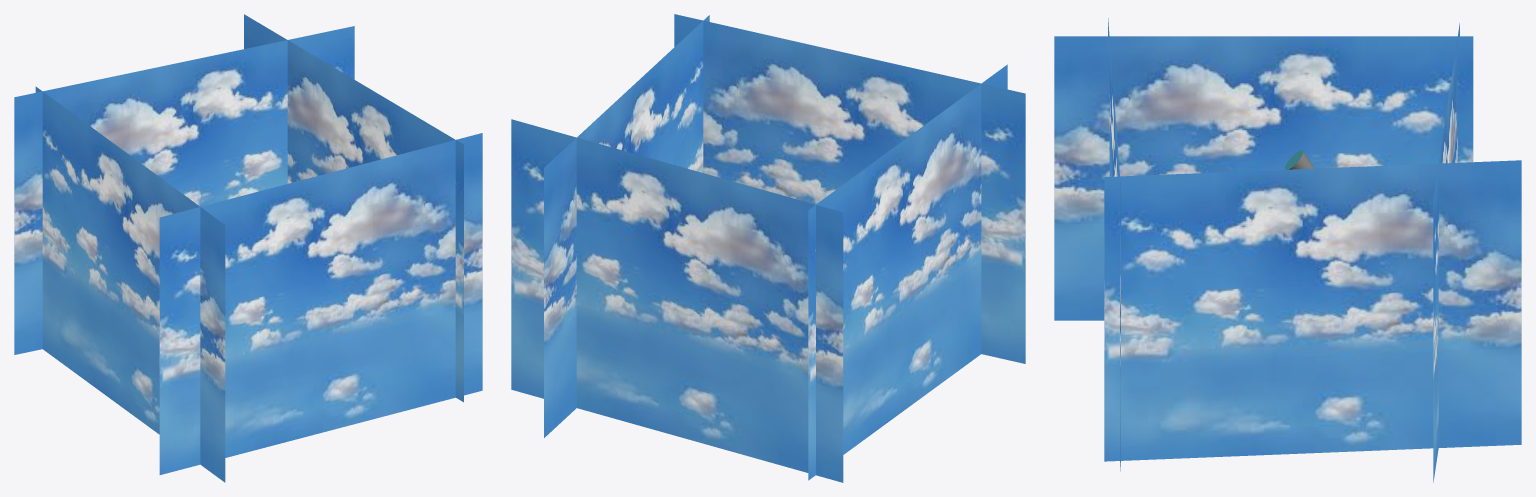
3 renders of one model, left to right at view 1: azimuth 30°, elevation 25°; view 2: azimuth 150°, elevation 25°; view 3: azimuth 270°, elevation 25°, orthographic. The views are drawn at different scales.
Parts seen in each view (by area): view 1: images.003, images, images.001, images.002; view 2: images.001, images.003, images, images.002; view 3: images.002, images, images.001, images.003.
Part boxes in pixels (x1=…): images.003: x1=159, y1=133, x2=482, y2=474; images: x1=35, y1=86, x2=225, y2=482; images.001: x1=14, y1=26, x2=354, y2=354; images.002: x1=244, y1=14, x2=463, y2=402; images.001: x1=511, y1=119, x2=843, y2=482; images.003: x1=674, y1=14, x2=1025, y2=363; images: x1=808, y1=64, x2=1007, y2=480; images.002: x1=544, y1=15, x2=709, y2=437; images.002: x1=1104, y1=160, x2=1521, y2=461; images: x1=1054, y1=36, x2=1473, y2=320; images.001: x1=1433, y1=23, x2=1459, y2=482; images.003: x1=1108, y1=18, x2=1120, y2=471.
Bounding box in the file's own units: 492 × 354 × 528.
6 materials, 1 textured.
